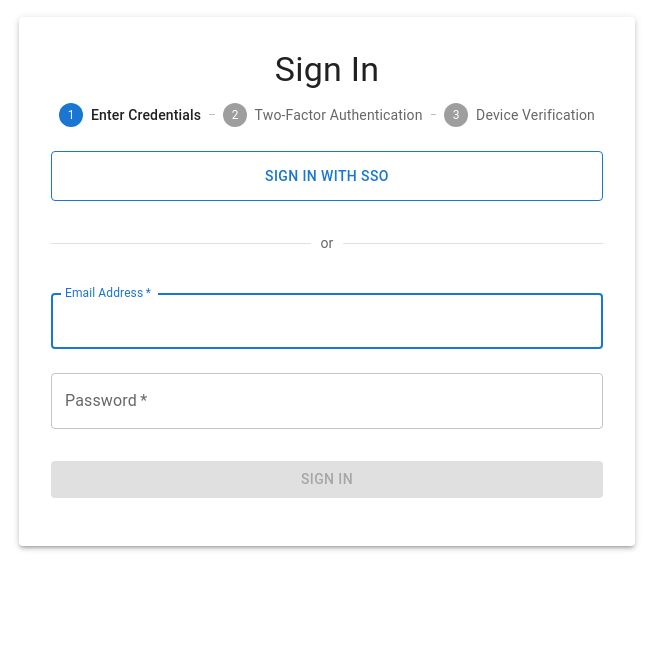
Scenario: SSO Integration Tests › SSO Login Flow › displays error message when SSO login fails
The width and height of the screenshot is (655, 655).
Click the button with aria-label "sign in with single sign-on". click: point(327, 176)
box: 51,151 -> 603,201
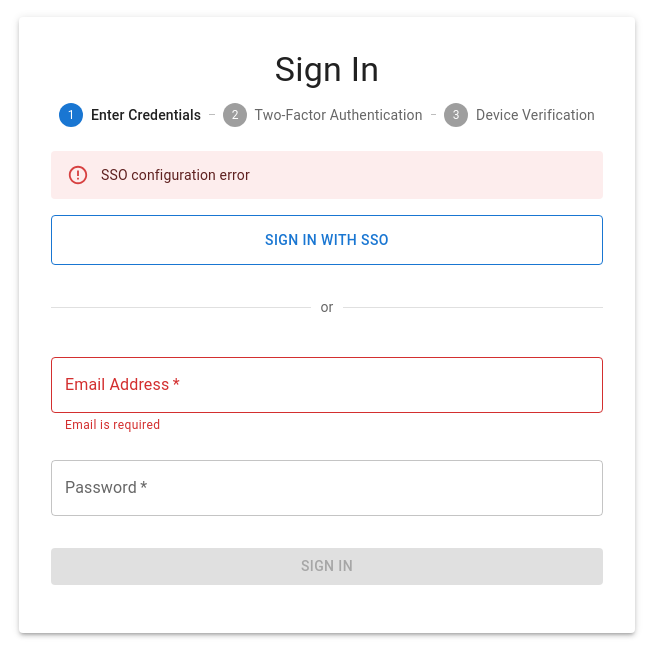
Result: the message "SSO configuration error" is shown at 51,151 -> 603,199
Result: the text "SSO configuration error" is shown at 101,167 -> 250,183
